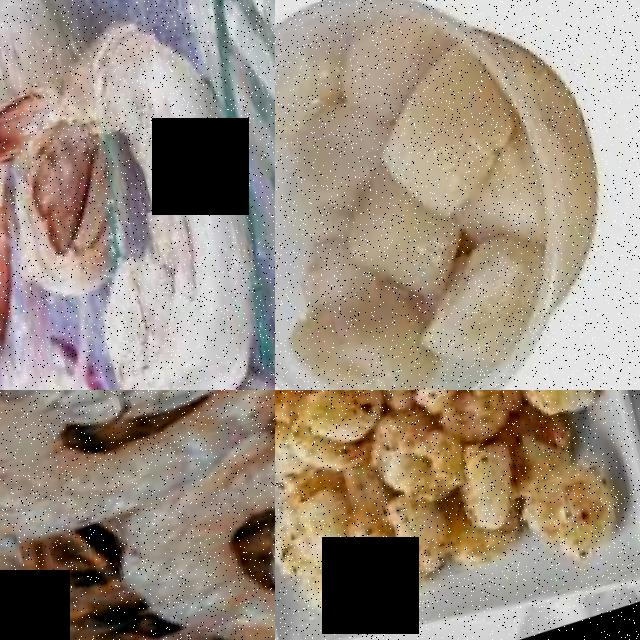sea scallops: (360, 45, 541, 222), (411, 224, 580, 375), (282, 268, 453, 390), (336, 171, 474, 312)
shrimp: (3, 0, 275, 390), (0, 390, 275, 557), (98, 457, 275, 640), (0, 390, 275, 473), (347, 482, 480, 601), (407, 390, 544, 454), (500, 390, 631, 421)
